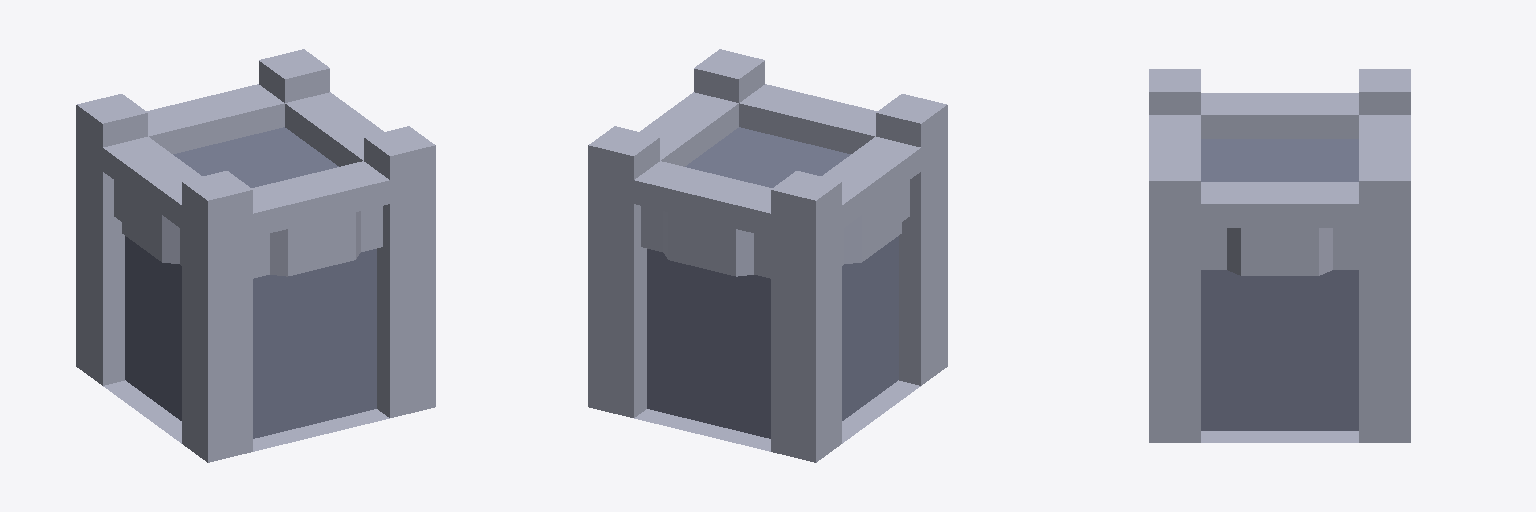
File: wall.obj
The picture shows the model from 3 angles: view 1: azimuth 30°, elevation 25°; view 2: azimuth 150°, elevation 25°; view 3: azimuth 270°, elevation 25°; orthographic projection.
Parts seen in each view (by area): view 1: wall; view 2: wall; view 3: wall.
Part boxes in pixels (x1,y1,x2,y2): wall: (76,49,435,462); wall: (588,49,947,462); wall: (1149,69,1410,442).
Bounding box in the file's own units: 1 × 1.1 × 1.